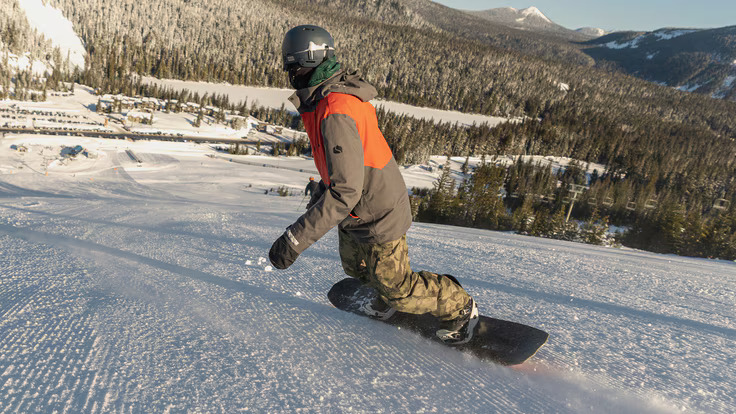snowboarder: (260, 20, 569, 385)
